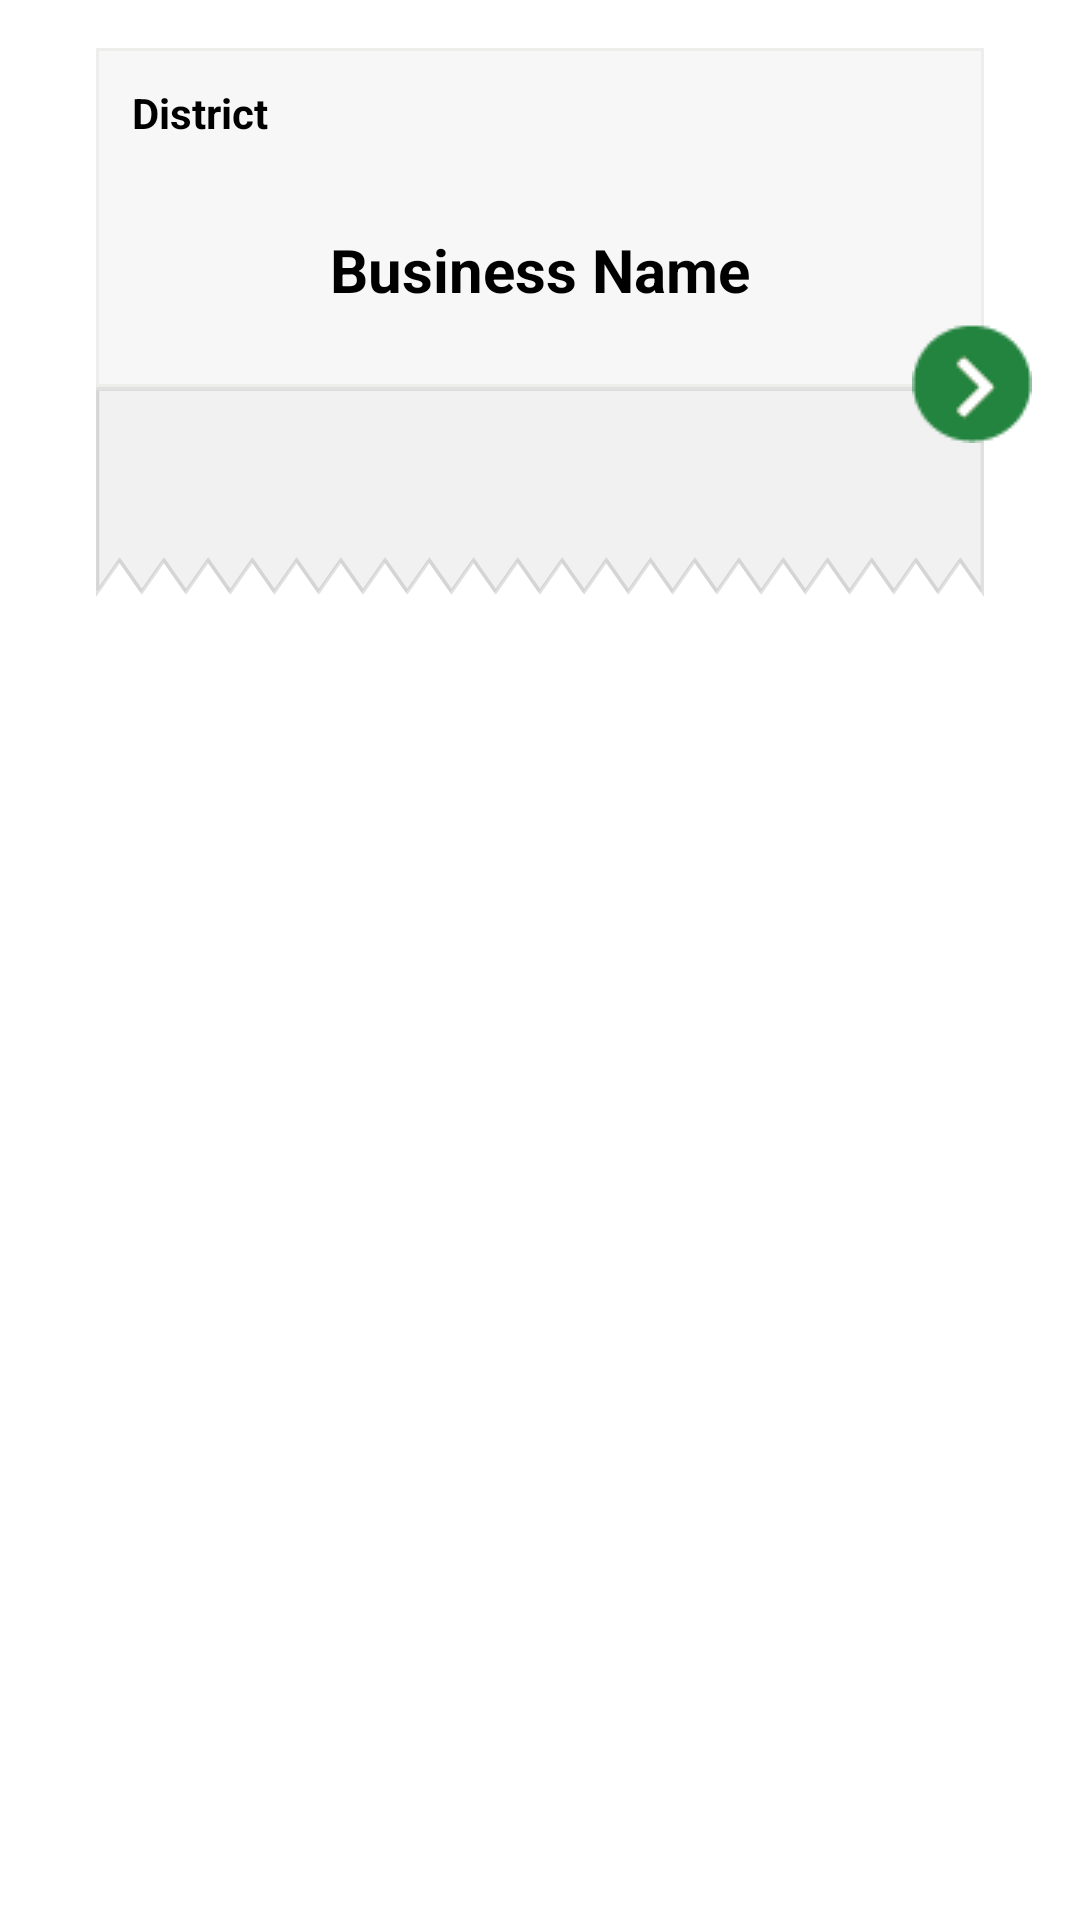

Icon click points for this 1080px x 1920px phone screenshot, format point (x, y):
forward circle: point (972, 384)
